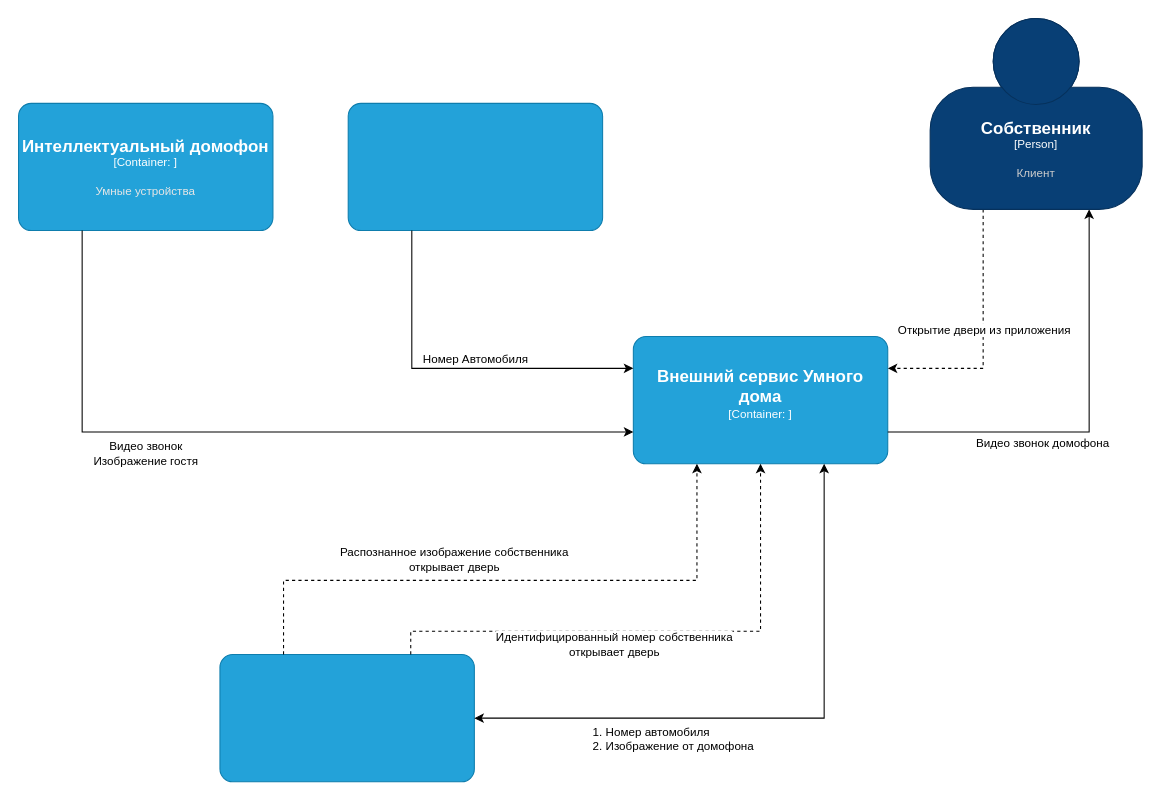
Some shapes in this 1161 by 800 pixel diagram are drawn without their labels. The shapes that lost their labels are listed below. From the top down, each one's centre as x and y in pixels, then its label:
(x=475, y=166): Интеллектуальный шлагбаум [Container: ] Умные устройства
(x=346, y=717): Сервис для Собственника [Container: ]
